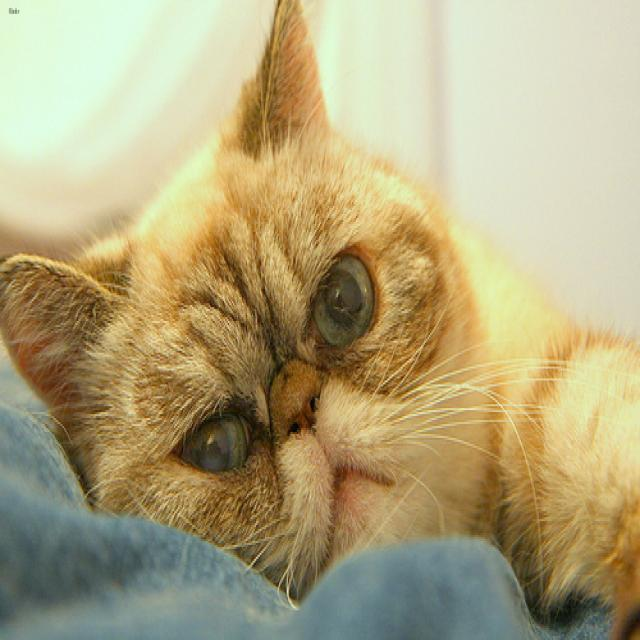Persian: (0, 0, 482, 618)
